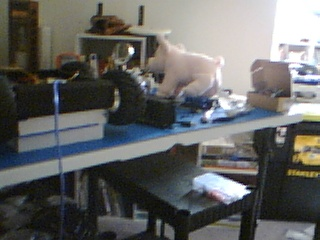piggy: (146, 33, 225, 100)
